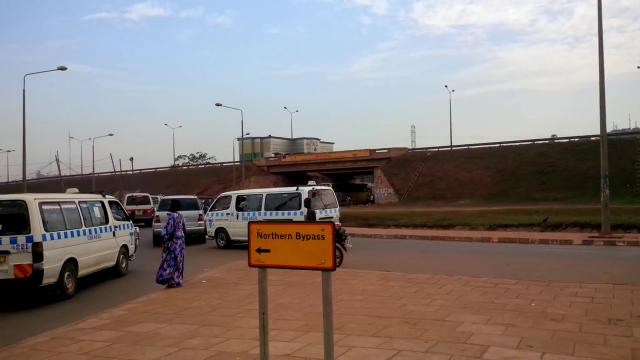van: (0, 188, 142, 300), (204, 183, 338, 249), (151, 194, 209, 245), (121, 193, 158, 227)
